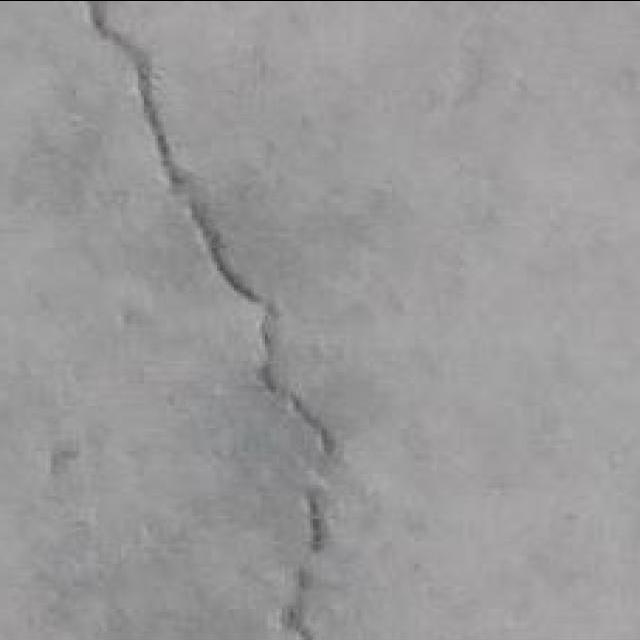Crack: (86, 1, 345, 636)
